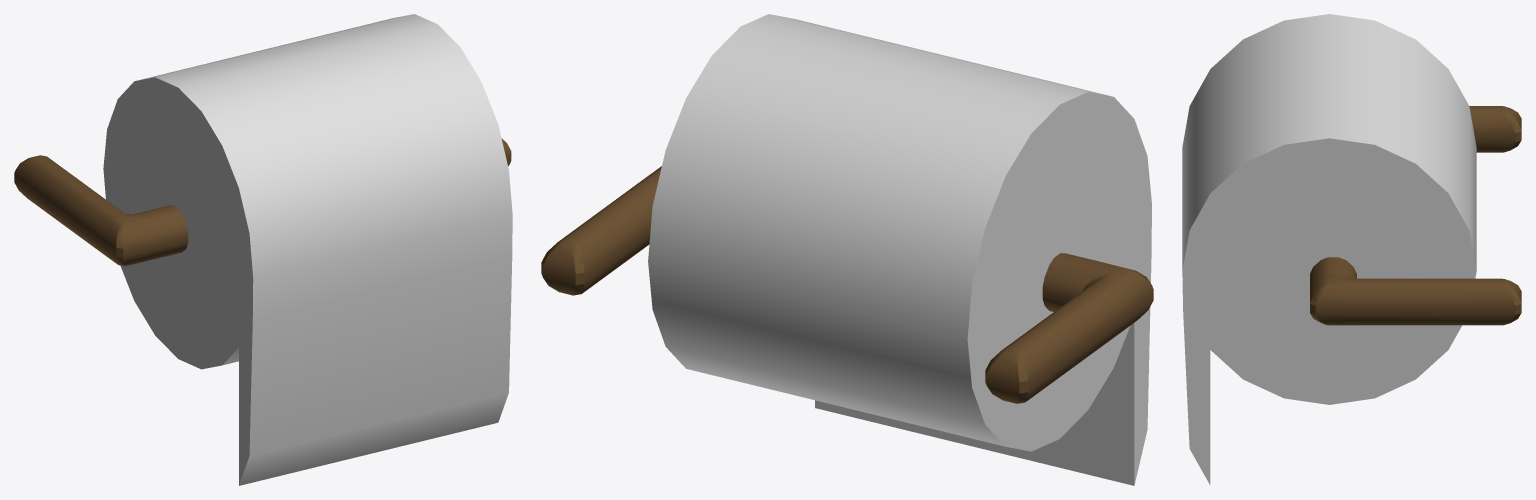
Rendered from ToilettePaperGeo.fbx.
3 views of the same model, side by side, from view 1: azimuth 30°, elevation 25°; view 2: azimuth 150°, elevation 25°; view 3: azimuth 270°, elevation 25° (orthographic). The views are drawn at different scales.
Visible parts, largest first — view 1: ToilettePaperGeo; view 2: ToilettePaperGeo; view 3: ToilettePaperGeo.
Boxes of the visible parts, x1,y1,x2,y2 form: ToilettePaperGeo: (14,14,512,485); ToilettePaperGeo: (541,14,1153,485); ToilettePaperGeo: (1182,14,1521,484).
Bounding box in the file's own units: 49.55 × 42.4 × 37.5.
